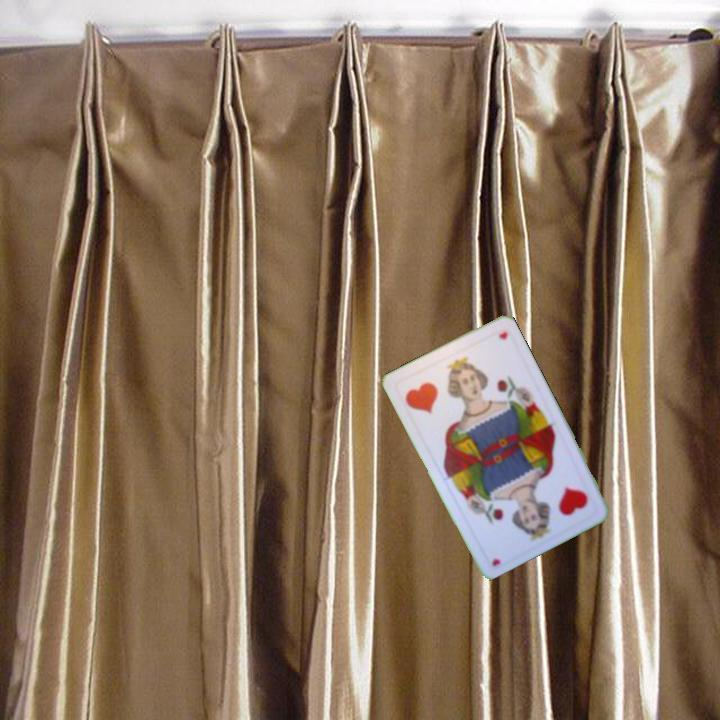h_q.png: (517, 460, 601, 541), (392, 352, 476, 432)
